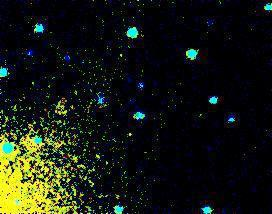star: (85, 142, 115, 172)
